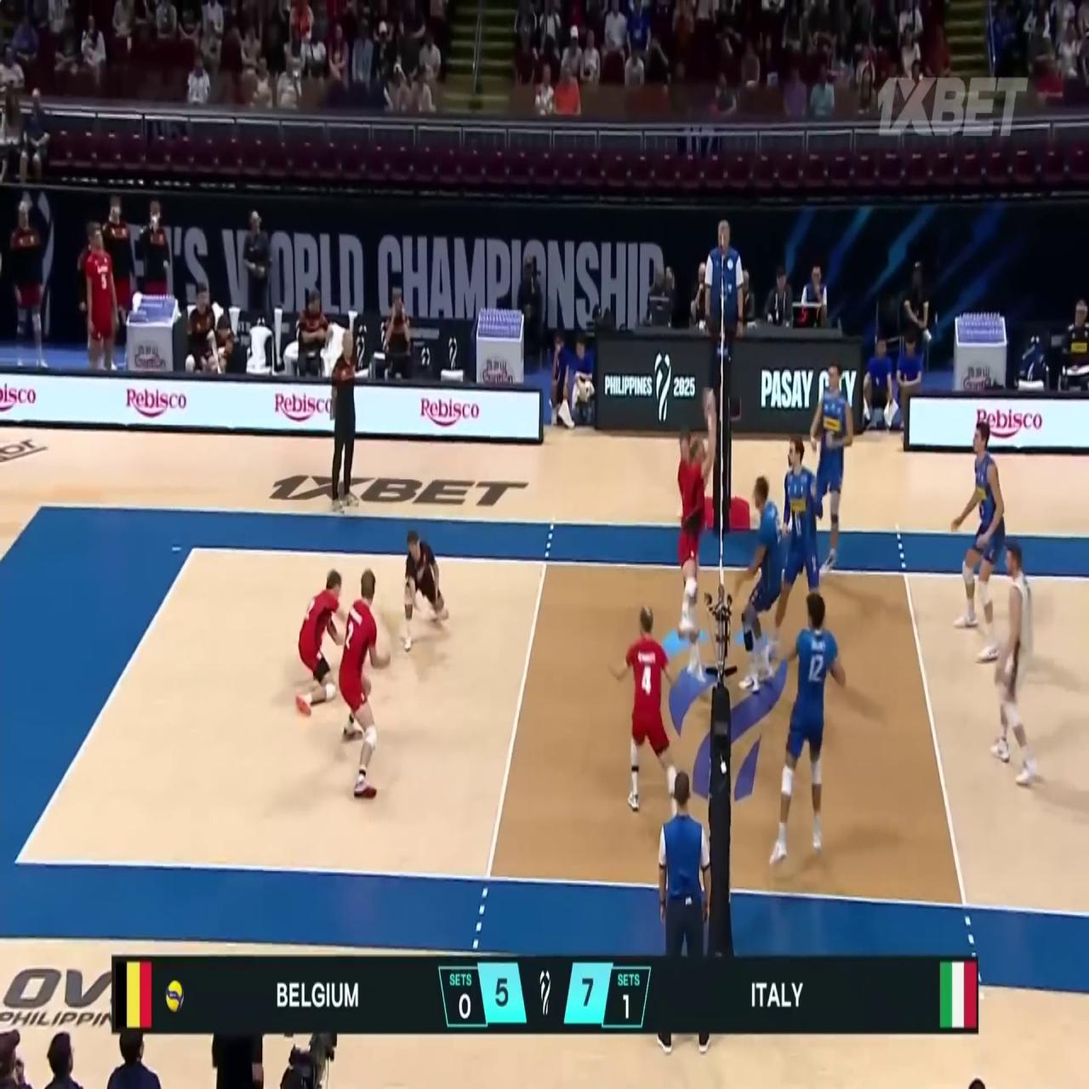ball: (382, 605, 397, 628)
